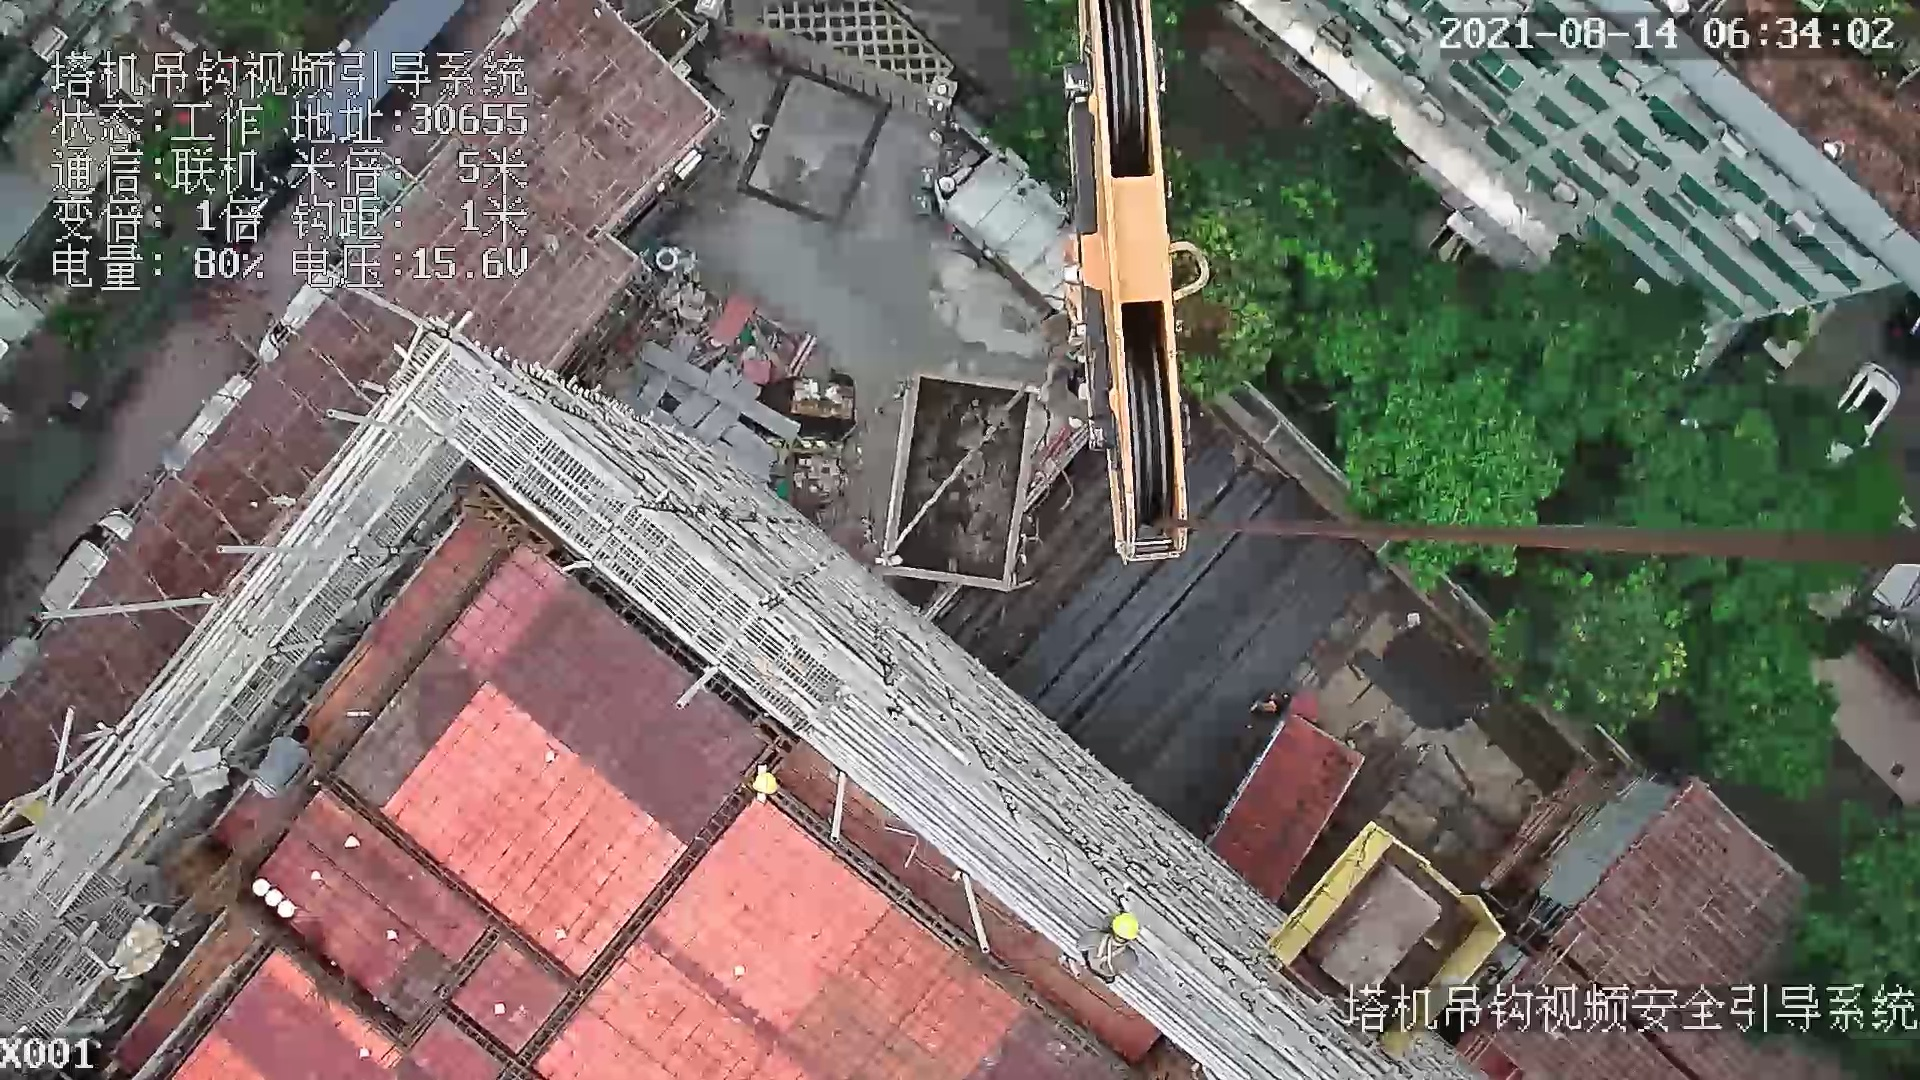helmet: (1107, 913, 1144, 943), (753, 770, 778, 796)
hook: (1042, 4, 1212, 560)
hopper: (868, 365, 1044, 609)
person: (1059, 903, 1149, 987)
